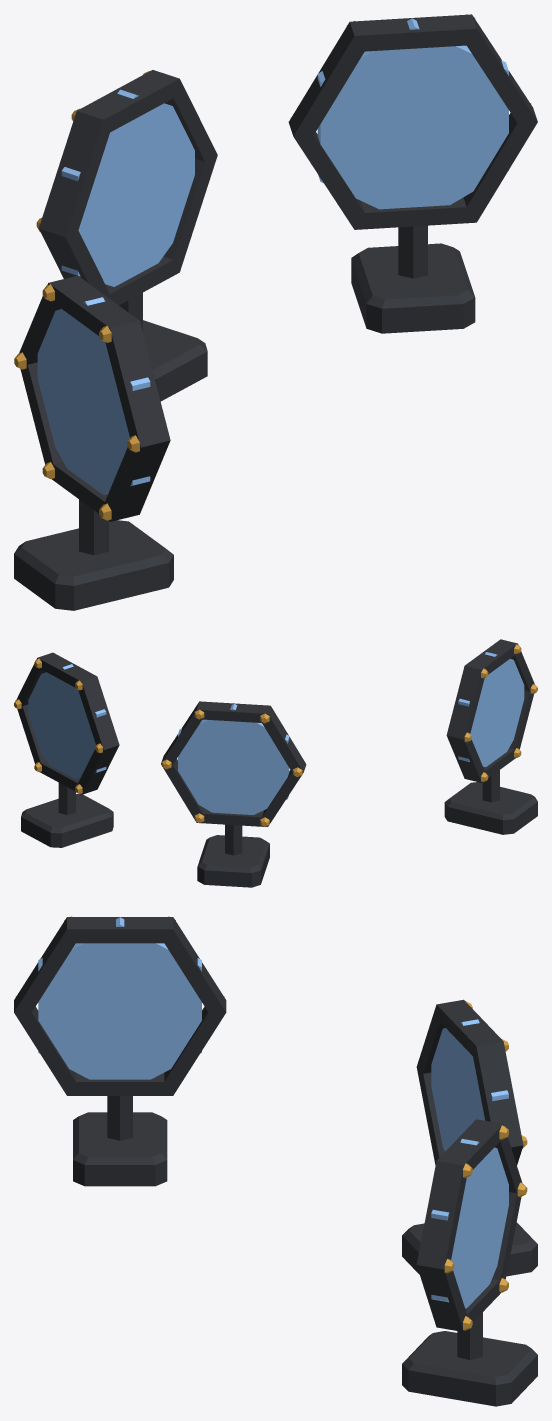
Rendered from BubbleDressB2.obj.
The picture shows the model from 3 angles, top to bottom: view 1: azimuth 30°, elevation 25°; view 2: azimuth 150°, elevation 25°; view 3: azimuth 270°, elevation 25°; orthographic projection. The views are drawn at different scales.
Visible parts, largest first — view 1: BubbleDressB2; view 2: BubbleDressB2; view 3: BubbleDressB2.
Boxes of the visible parts, left/top/right/bottom form: BubbleDressB2: left=14, top=14, right=537, bottom=610; BubbleDressB2: left=14, top=639, right=537, bottom=887; BubbleDressB2: left=14, top=916, right=537, bottom=1406.
Size of the model in its own units: 1.16 by 0.45 by 0.8886.
